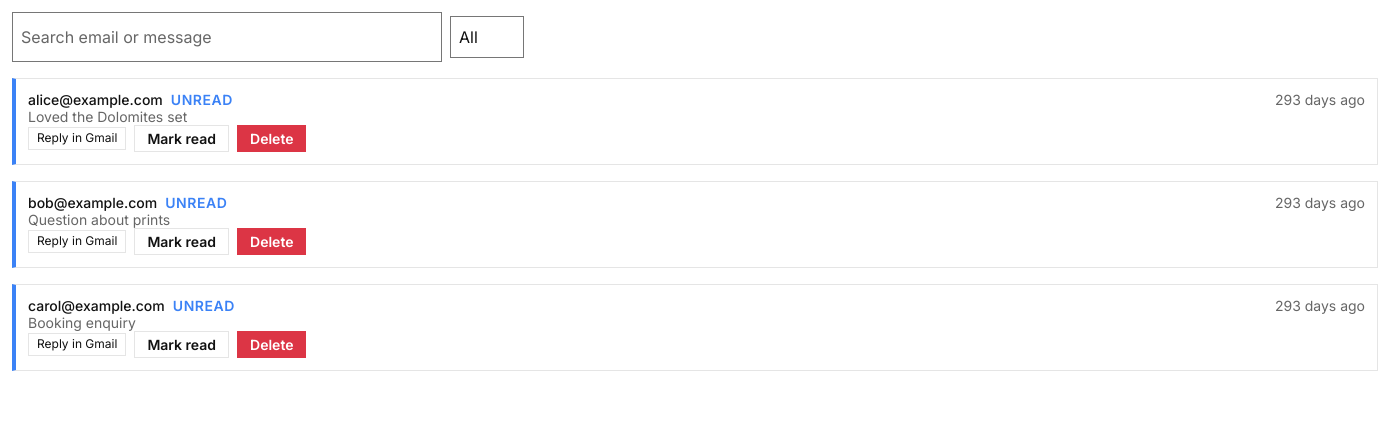
it: CommentsList — server-side search › reports a failed search instead of silently showing the old list
In the search field named "search messages": x=227, y=37 [12, 12, 442, 62], type "prints"
Wait 300 ms
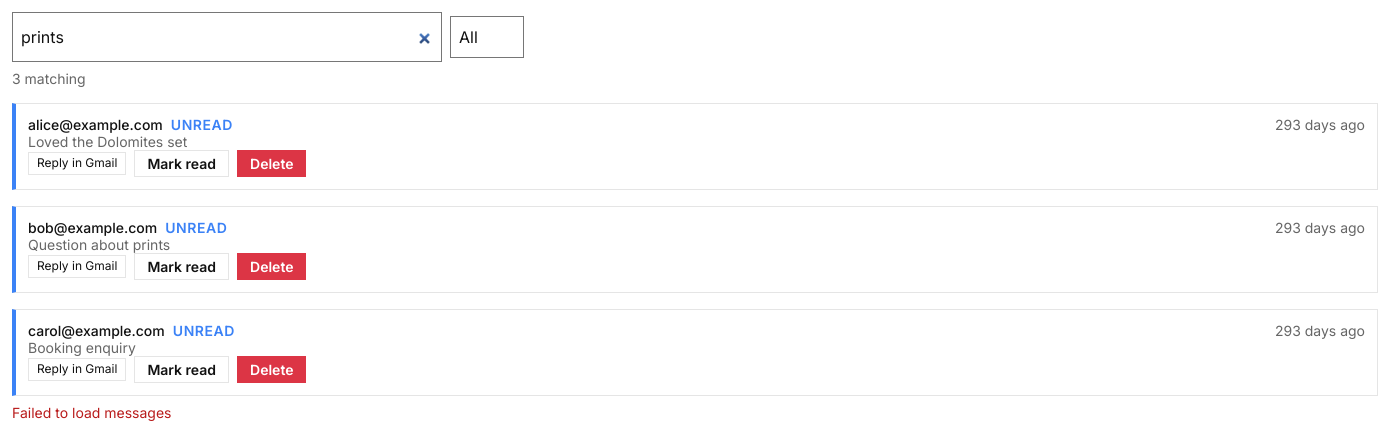
Expected: the text "Failed to load messages" is shown, [12, 404, 172, 421]
